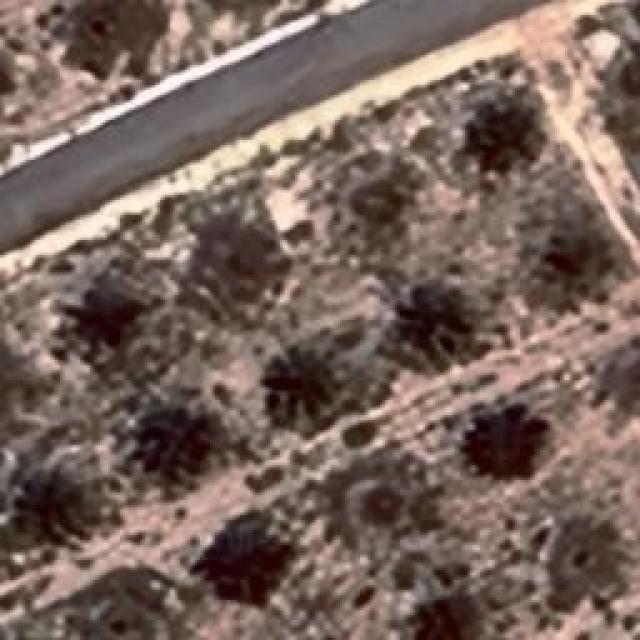PalmTree: (472, 98, 546, 184), (14, 457, 84, 545), (136, 395, 202, 483), (394, 286, 468, 359), (468, 411, 546, 479), (265, 344, 335, 418), (208, 531, 284, 599), (72, 280, 132, 345), (410, 595, 475, 640)
